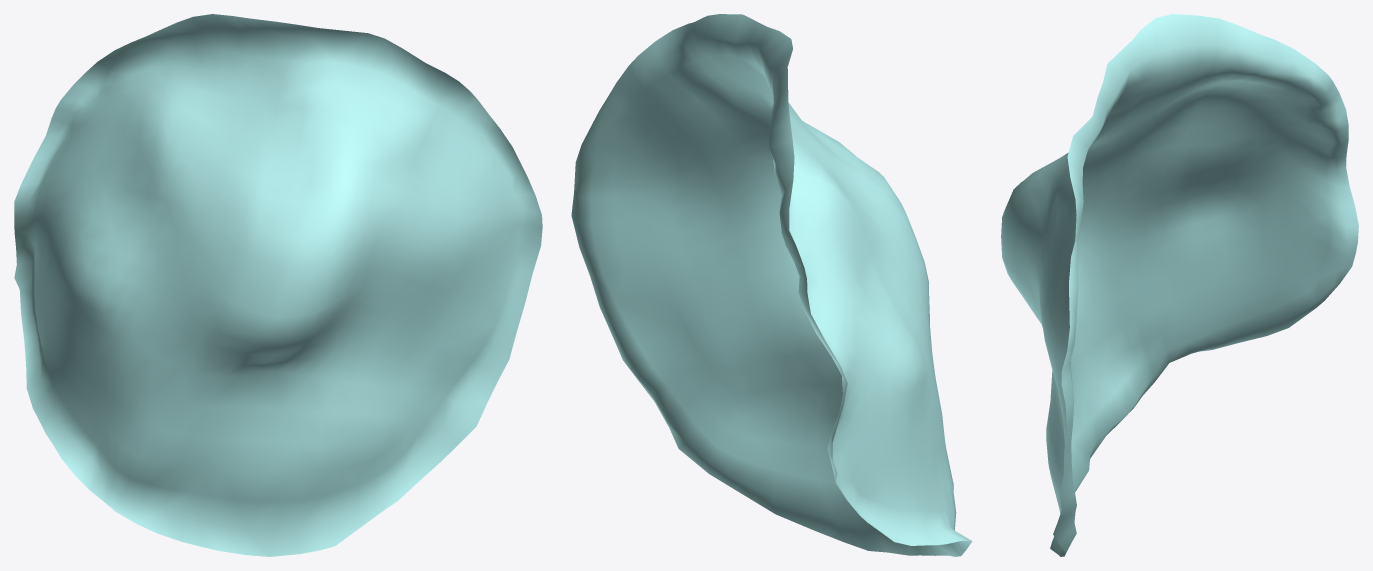
Rendered from cytoplasm.fbx.
3 views of the same model, side by side, from view 1: azimuth 30°, elevation 25°; view 2: azimuth 150°, elevation 25°; view 3: azimuth 270°, elevation 25° (orthographic). The views are drawn at different scales.
Parts seen in each view (by area): view 1: Cytoplasm; view 2: Cytoplasm; view 3: Cytoplasm.
Boxes of the visible parts, bbox=[...] form: Cytoplasm: bbox=[14, 14, 542, 556]; Cytoplasm: bbox=[571, 14, 972, 556]; Cytoplasm: bbox=[1001, 14, 1358, 556].
Size of the model in its own units: 3169 by 3604 by 2265.
